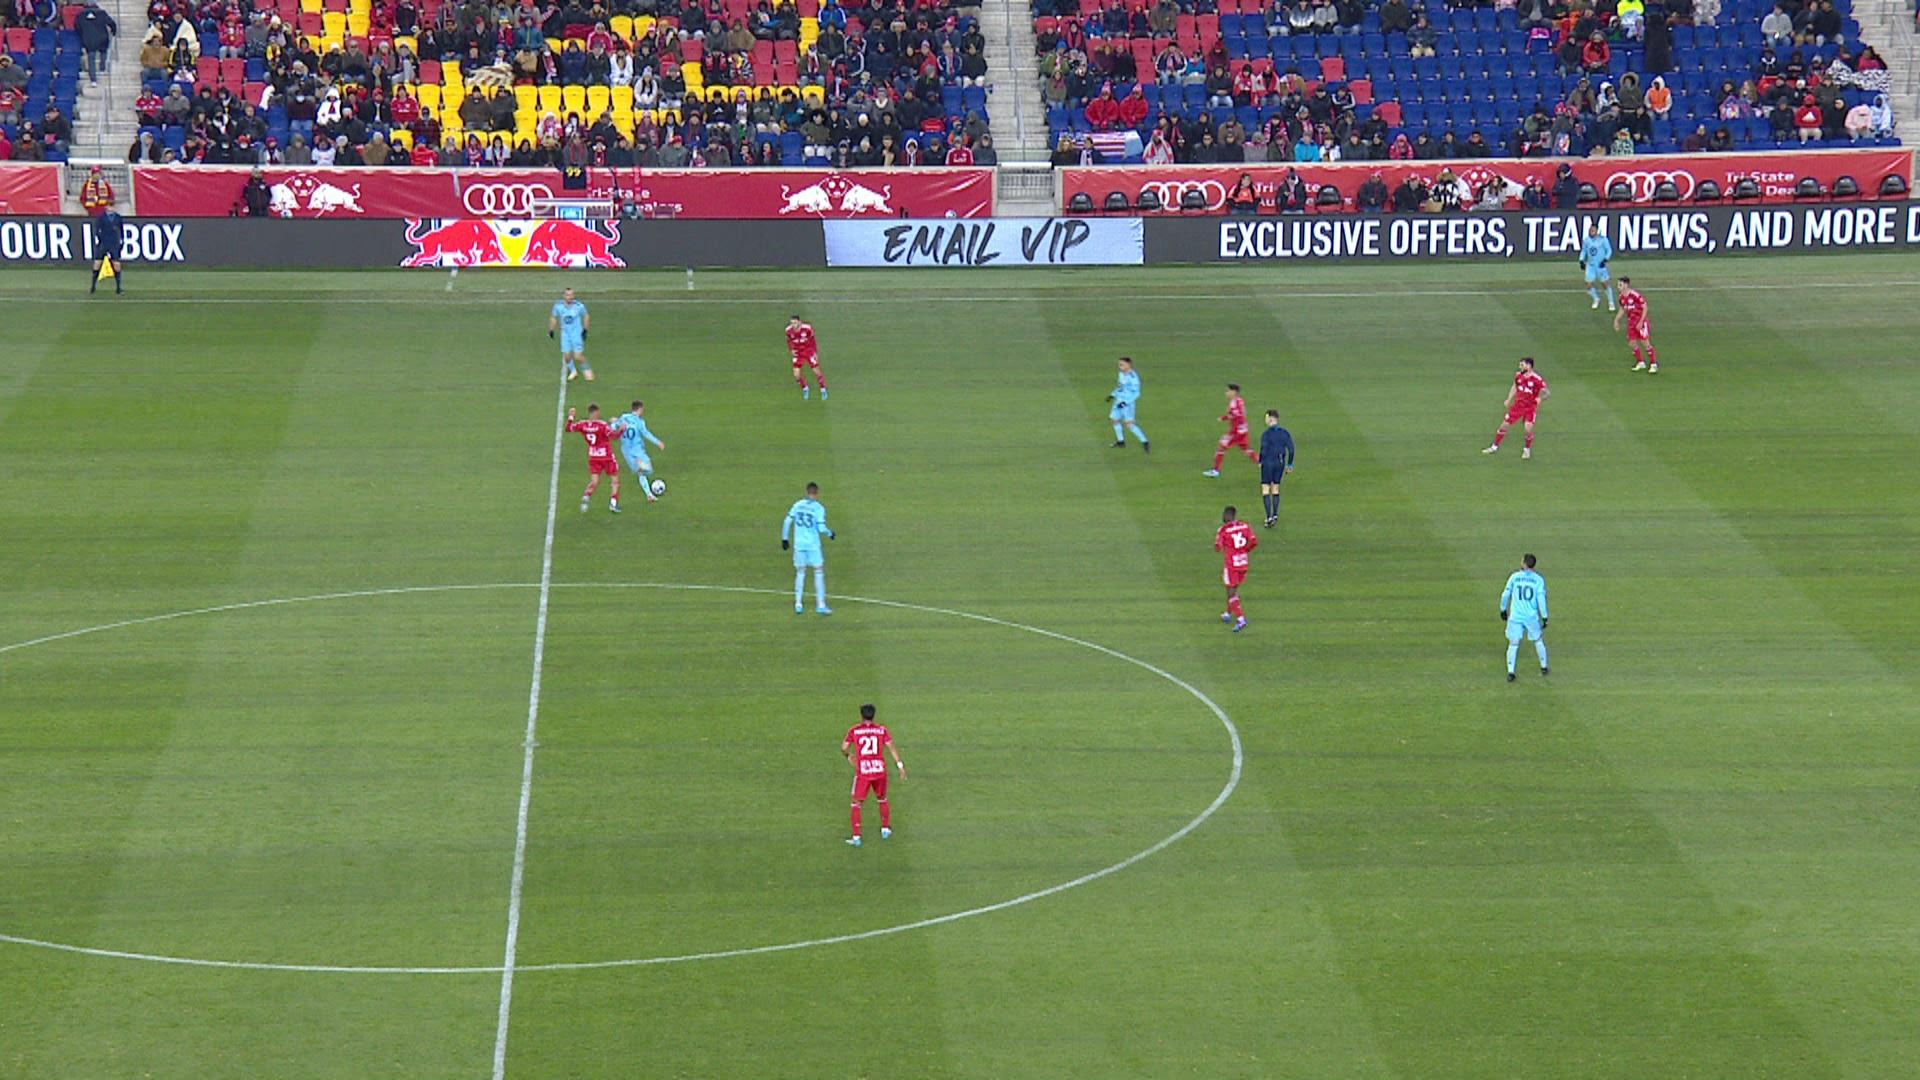football: (650, 479, 666, 496)
